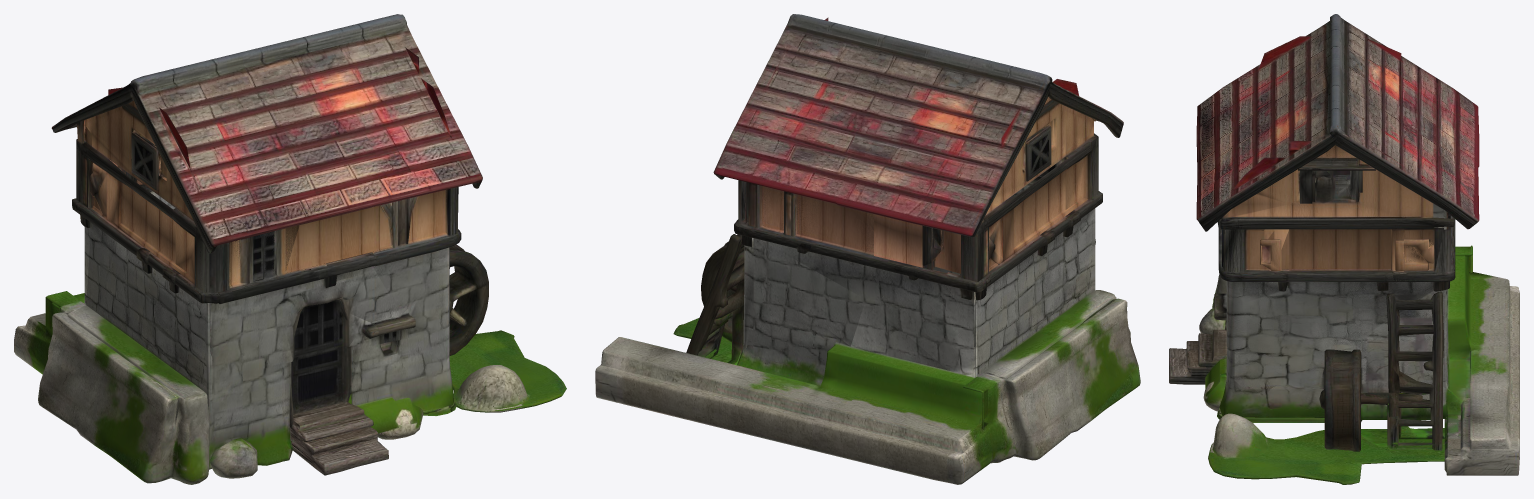
Rendered from stone_house.glb.
3 views of the same model, side by side, from view 1: azimuth 30°, elevation 25°; view 2: azimuth 150°, elevation 25°; view 3: azimuth 270°, elevation 25° (orthographic). The views are drawn at different scales.
Parts seen in each view (by area): view 1: stone_house_mesh; view 2: stone_house_mesh; view 3: stone_house_mesh.
Part boxes in pixels (x1,y1,x2,y2): stone_house_mesh: [14, 14, 566, 484]; stone_house_mesh: [595, 14, 1140, 484]; stone_house_mesh: [1169, 14, 1519, 484].
Size of the model in its own units: 1.91 by 1.52 by 1.55.
1 material, 1 textured.
